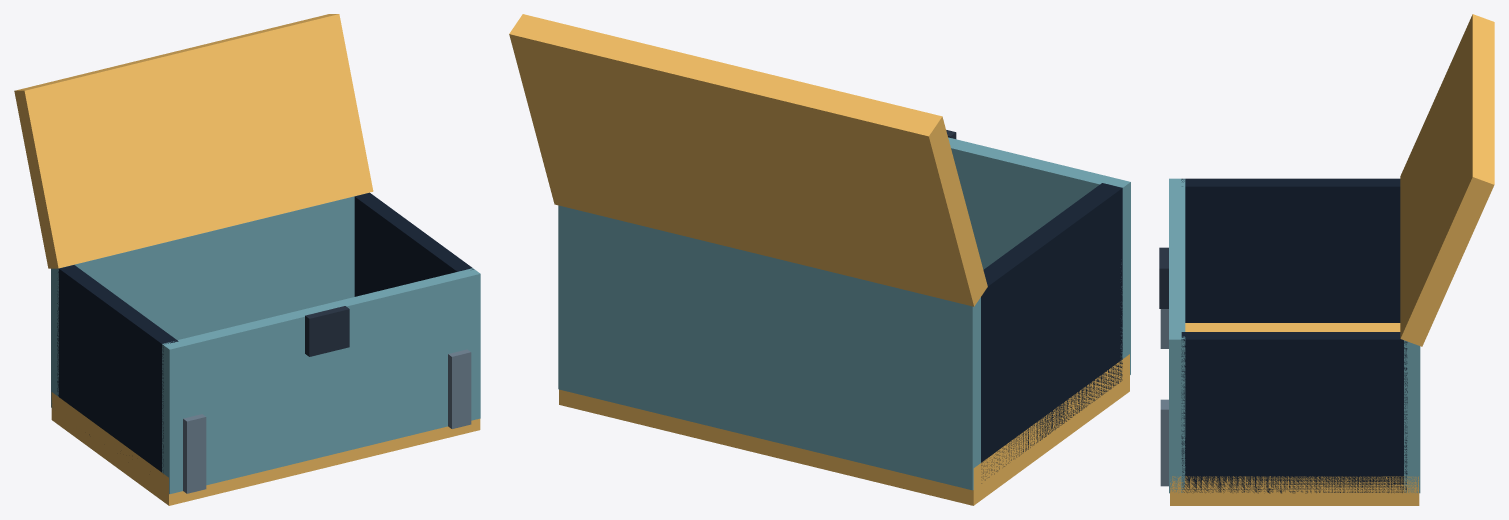
3 views of the same model, side by side, from view 1: azimuth 30°, elevation 25°; view 2: azimuth 150°, elevation 25°; view 3: azimuth 270°, elevation 25° (orthographic). The views are drawn at different scales.
Parts seen in each view (by area): view 1: raised lid, panel 0.5, panel -0.5, end panel -0.77, floor, end panel 0.77, clasp, corner 0.69, corner -0.69; view 2: raised lid, panel -0.5, end panel -0.77, floor, panel 0.5; view 3: end panel 0.77, end panel -0.77, raised lid, floor, panel 0.5, panel -0.5, corner 0.69, clasp.
Part boxes in pixels (<box>): raised lid: <box>14,14,373,268</box>; panel 0.5: <box>162,268,480,494</box>; panel -0.5: <box>51,195,356,407</box>; end panel -0.77: <box>57,265,178,472</box>; floor: <box>51,392,480,505</box>; end panel 0.77: <box>354,192,473,296</box>; clasp: <box>305,306,349,356</box>; corner 0.69: <box>448,349,471,428</box>; corner -0.69: <box>183,414,206,493</box>; raised lid: <box>509,14,987,306</box>; panel -0.5: <box>558,205,980,490</box>; end panel -0.77: <box>981,183,1122,483</box>; floor: <box>559,354,1129,505</box>; panel 0.5: <box>948,137,1130,377</box>; end panel 0.77: <box>1181,332,1407,493</box>; end panel -0.77: <box>1181,178,1400,322</box>; raised lid: <box>1400,14,1494,346</box>; floor: <box>1170,323,1419,505</box>; panel 0.5: <box>1169,178,1185,493</box>; panel -0.5: <box>1404,340,1420,493</box>; corner 0.69: <box>1160,399,1168,486</box>; clasp: <box>1159,247,1168,308</box>.
Size of the model in its own units: 1.64 by 1.55 by 1.42.
